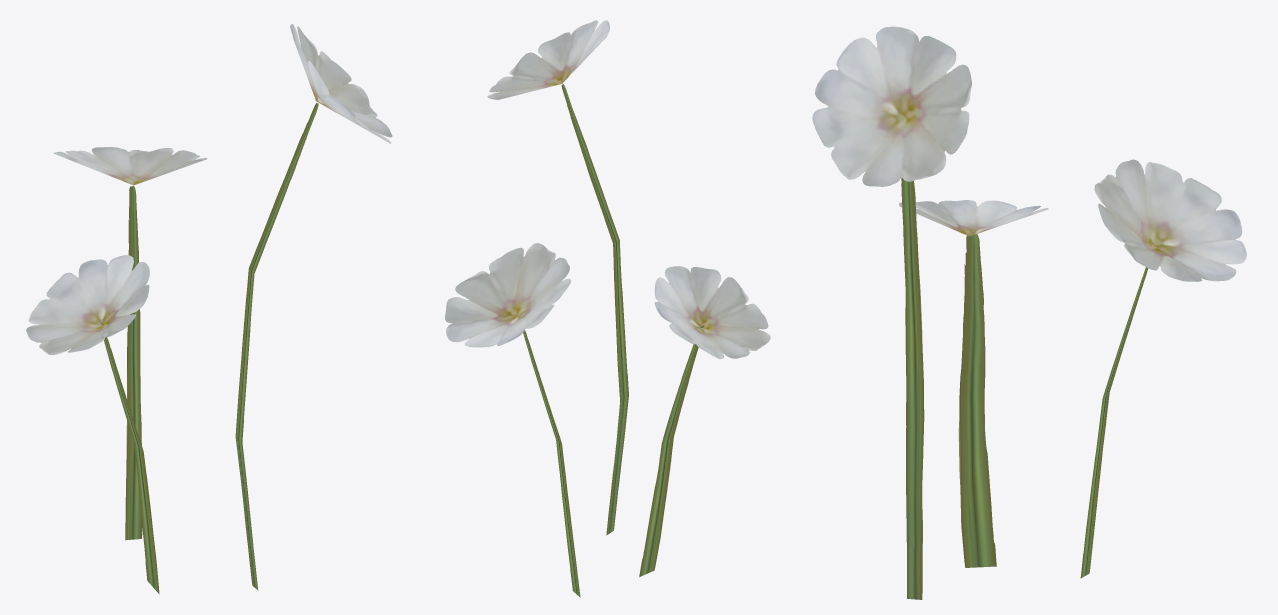
Rendered from SM_Ground_White2_Flower_B.fbx.
The picture shows the model from 3 angles, left to right: view 1: azimuth 30°, elevation 25°; view 2: azimuth 150°, elevation 25°; view 3: azimuth 270°, elevation 25°; orthographic projection. The views are drawn at different scales.
Visible parts, largest first — view 1: SM_Ground_White2_Flower_B; view 2: SM_Ground_White2_Flower_B; view 3: SM_Ground_White2_Flower_B.
Part boxes in pixels (box(x1,y1,x2,y2)): SM_Ground_White2_Flower_B: box(26, 24, 392, 594); SM_Ground_White2_Flower_B: box(445, 20, 770, 597); SM_Ground_White2_Flower_B: box(812, 26, 1246, 599).
Bounding box in the file's own units: 21.42 × 23.7 × 34.46.
Materials: 1 (1 with a texture image).
